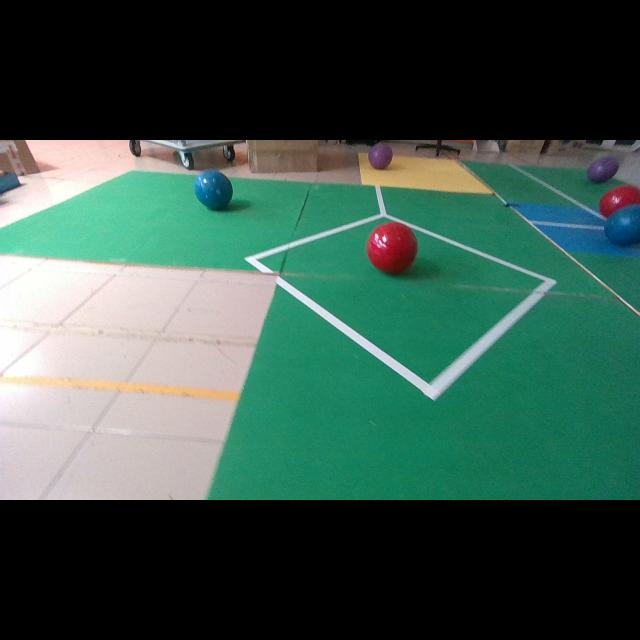B: (604, 204, 640, 246), (195, 170, 232, 210)
P: (586, 158, 619, 182), (369, 142, 392, 169)
R: (366, 222, 418, 274), (599, 185, 640, 218)
